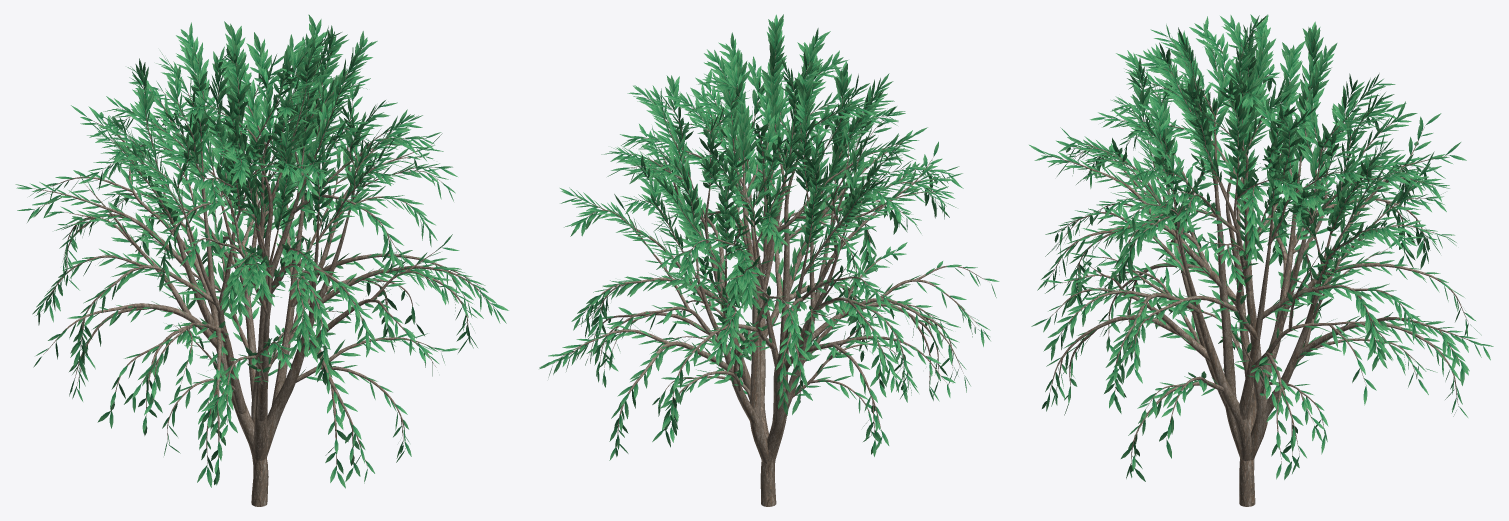
The model's file is tree_1.glb.
3 views of the same model, side by side, from view 1: azimuth 30°, elevation 25°; view 2: azimuth 150°, elevation 25°; view 3: azimuth 270°, elevation 25° (orthographic). The views are drawn at different scales.
Visible parts, largest first — view 1: leaves, tree; view 2: leaves, tree; view 3: leaves, tree.
Part boxes in pixels (box(x1,y1,x2,y2)): leaves: box(15, 14, 508, 488); tree: box(31, 40, 495, 506); leaves: box(539, 14, 999, 460); tree: box(555, 44, 985, 506); leaves: box(1029, 14, 1493, 481); tree: box(1046, 31, 1470, 506).
Size of the model in its own units: 8.28 by 9.86 by 8.59.
2 materials, 2 textured.
